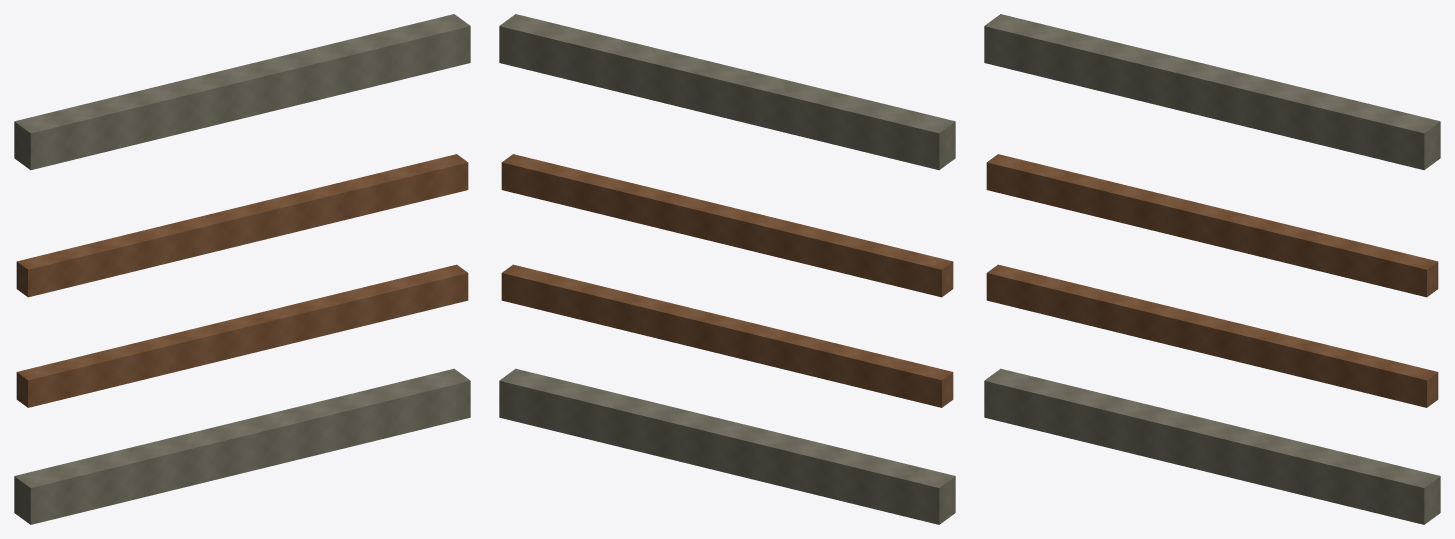
File: MRP_Railing_Horizontal_1m.fbx
3 renders of one model, left to right at view 1: azimuth 30°, elevation 25°; view 2: azimuth 150°, elevation 25°; view 3: azimuth 330°, elevation 25°, orthographic.
Visible parts, largest first — view 1: Body; view 2: Body; view 3: Body.
Part boxes in pixels (left/top/right/bottom): Body: left=14, top=14, right=470, bottom=524; Body: left=499, top=14, right=955, bottom=524; Body: left=984, top=14, right=1440, bottom=524.
Bounding box in the file's own units: 1 × 0.85 × 0.065.
